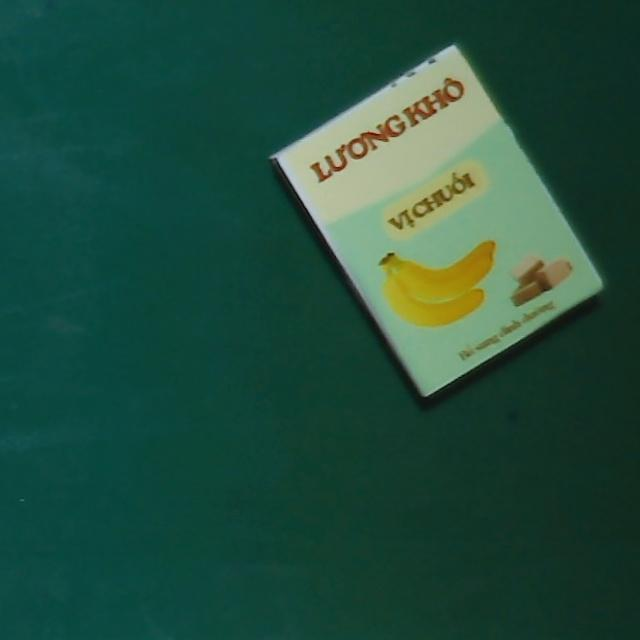chuoi: (270, 40, 609, 400)
